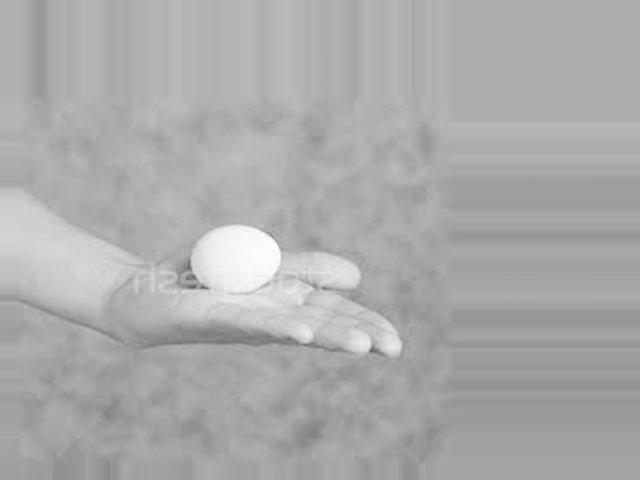egg: (190, 223, 280, 293)
